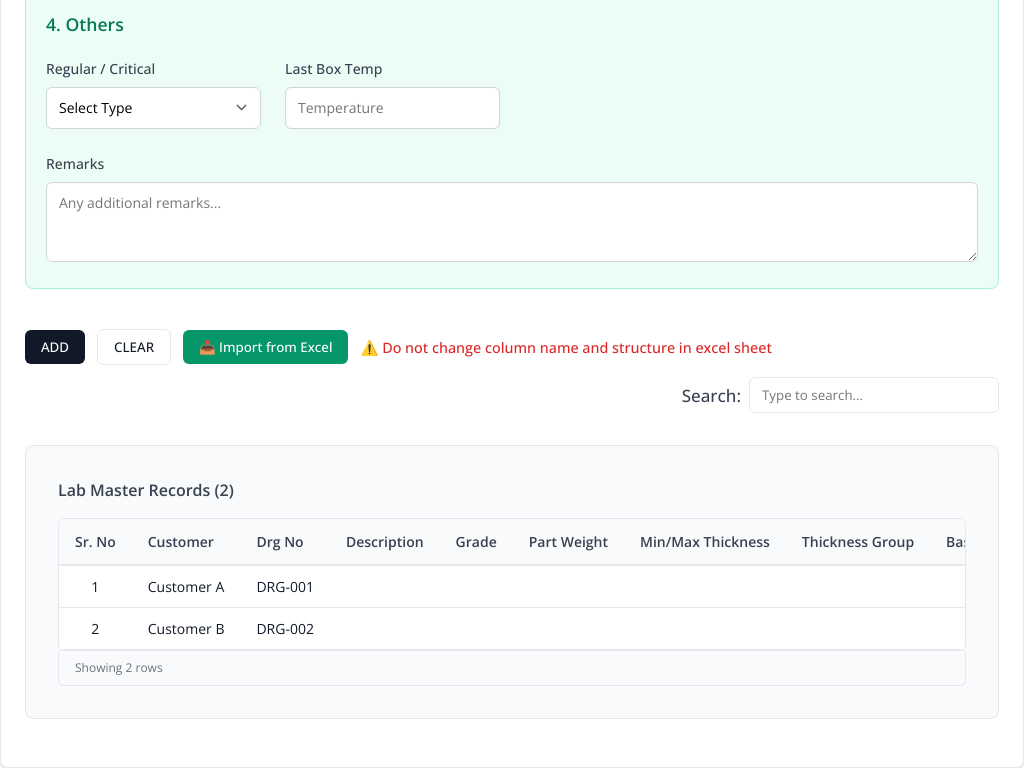
Test: LabMaster Component › Row Selection › clicking row populates form
The width and height of the screenshot is (1024, 768).
(page scrolled)
Click the text "Customer A". click: (186, 587)
box: [148,577,224,596]
(page scrolled)
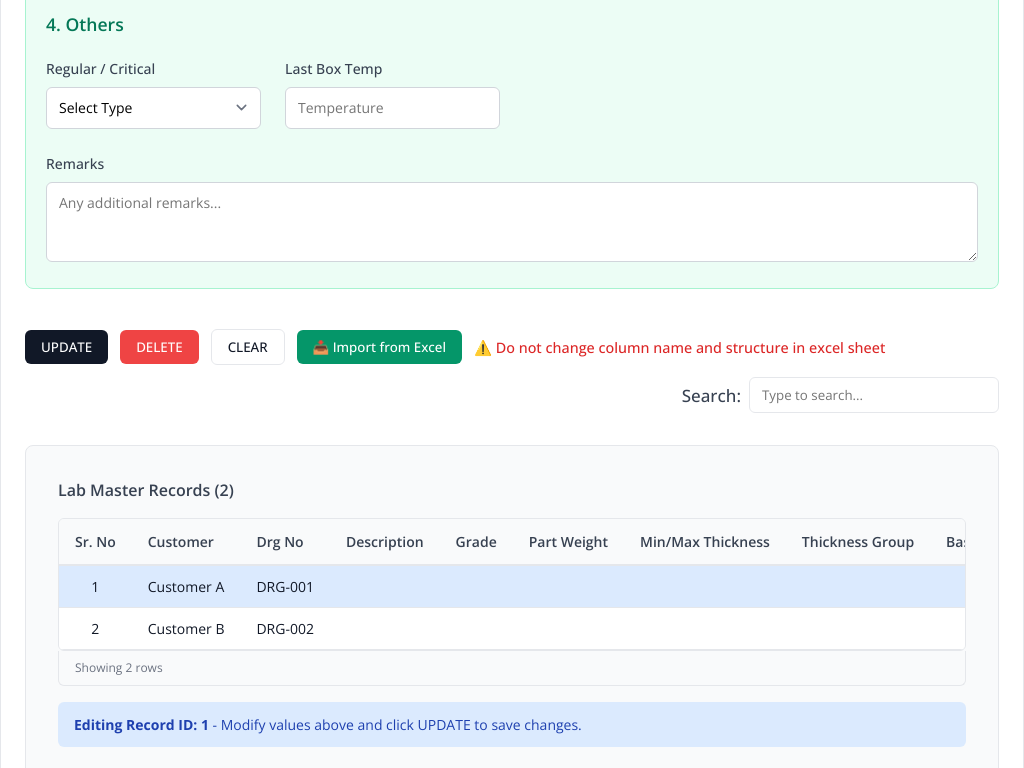
Now the button "UPDATE" is shown, box [25,330,108,364]
